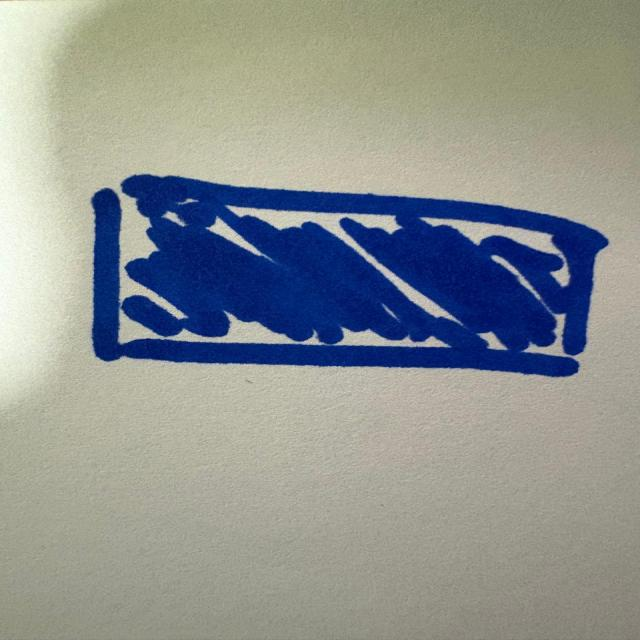Rectangle: (84, 169, 618, 385)
